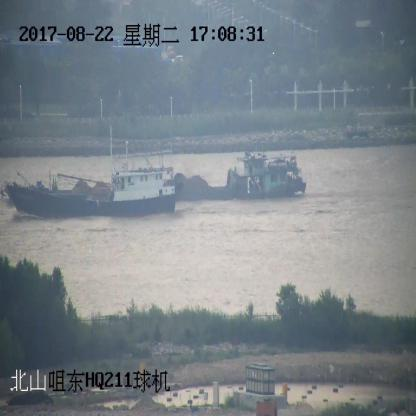Fishing Boat: (7, 145, 176, 216)
